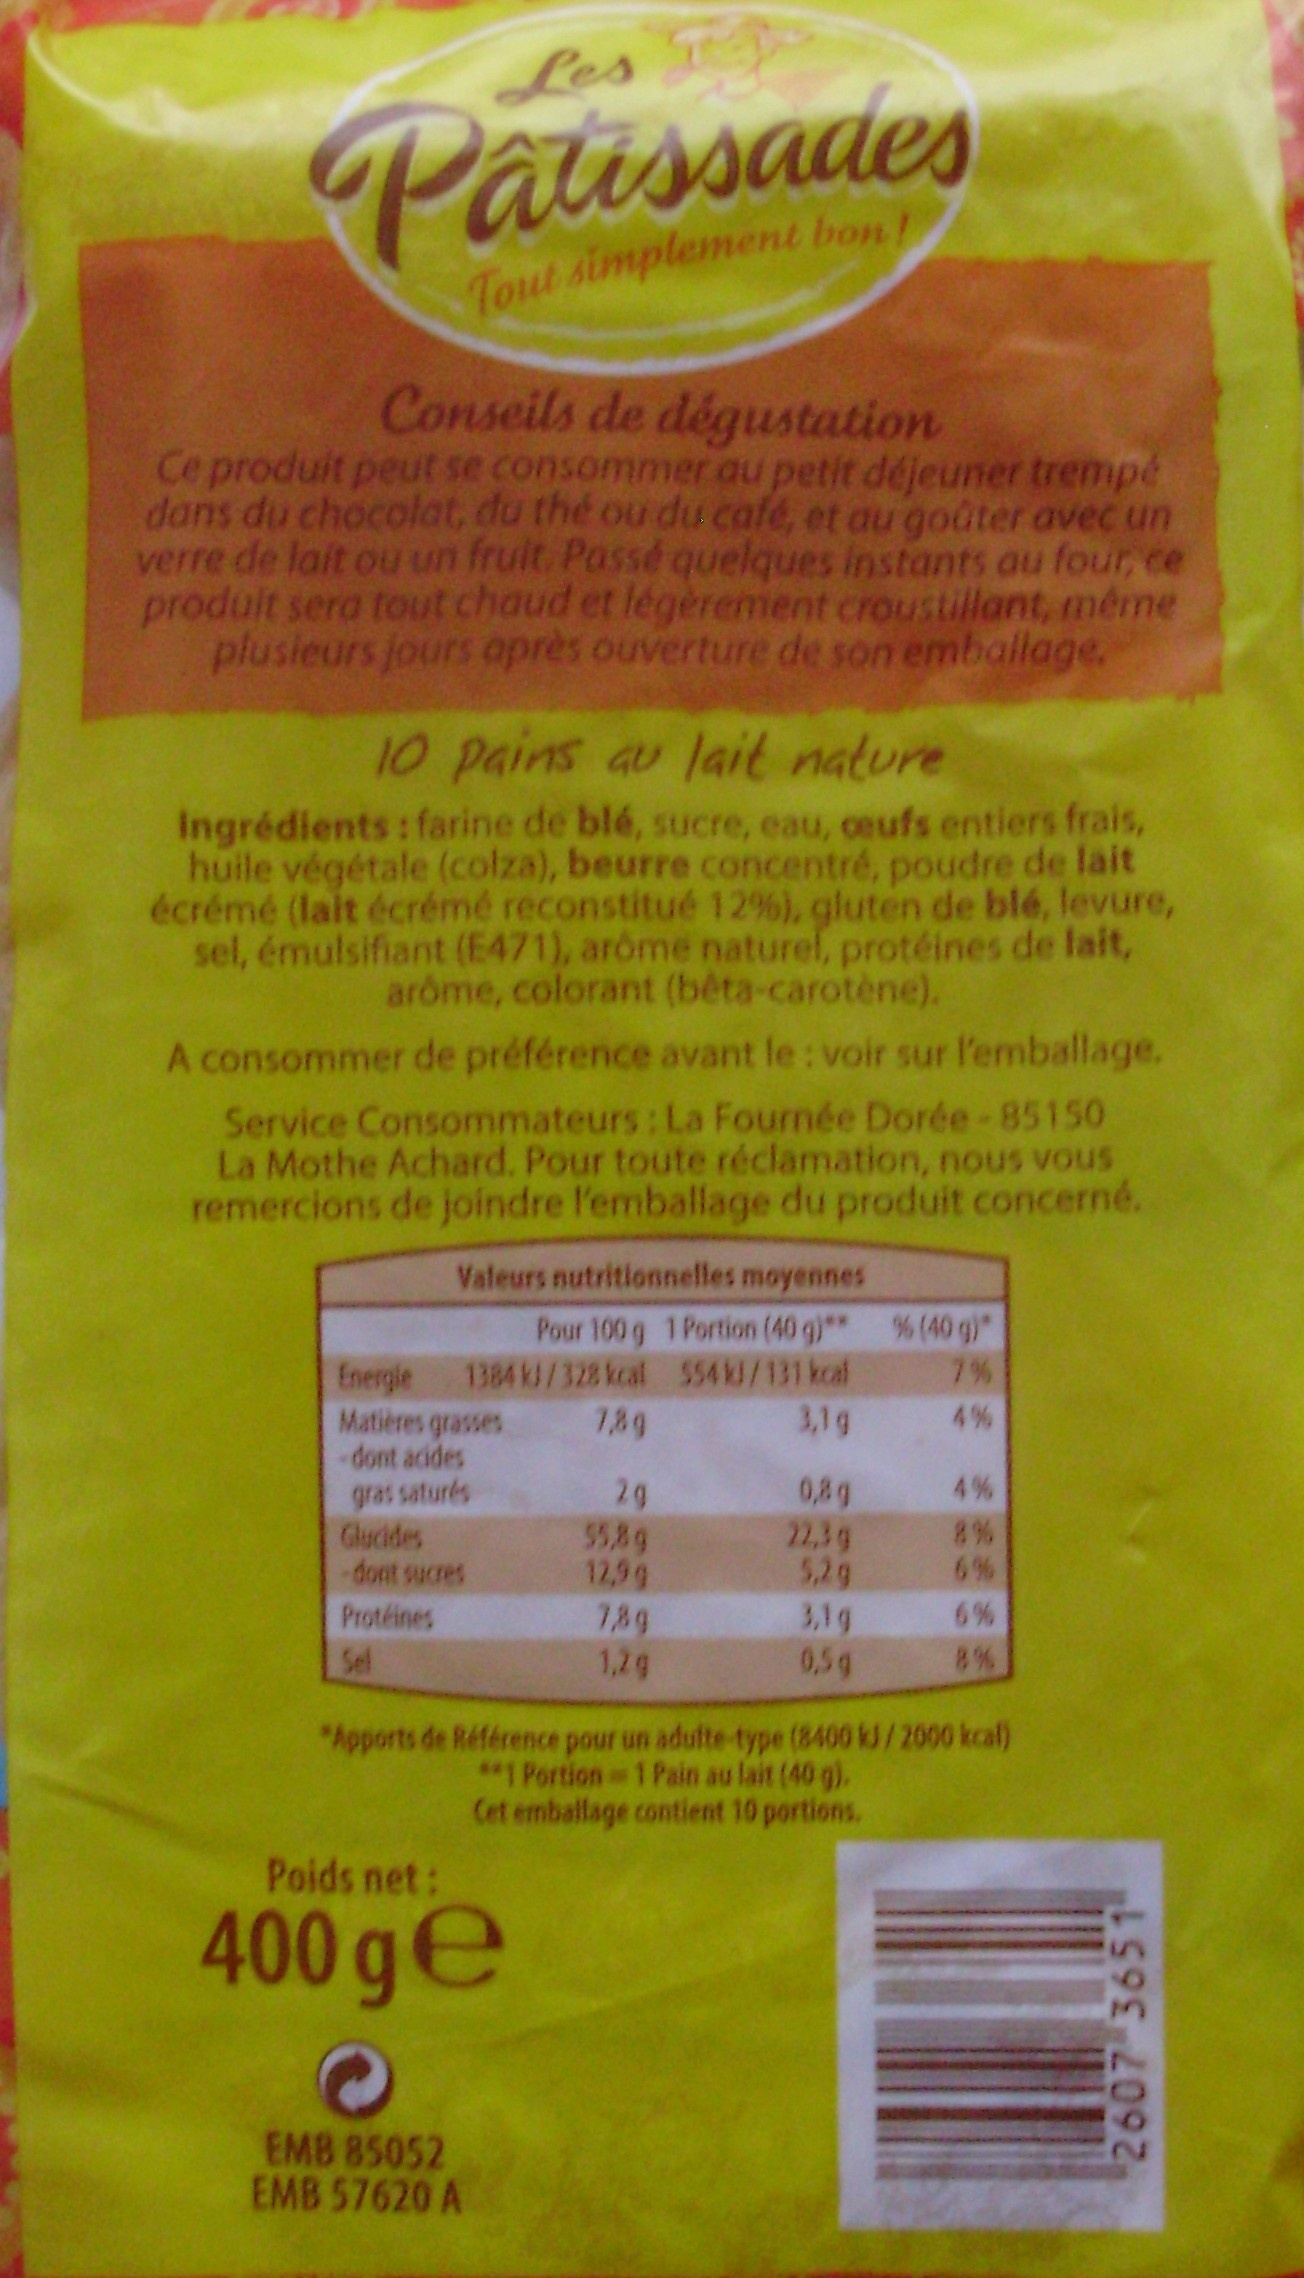column: (340, 1308, 651, 1691), (664, 1305, 852, 1691), (891, 1303, 1000, 1679)
table: (316, 1233, 1021, 1713)
